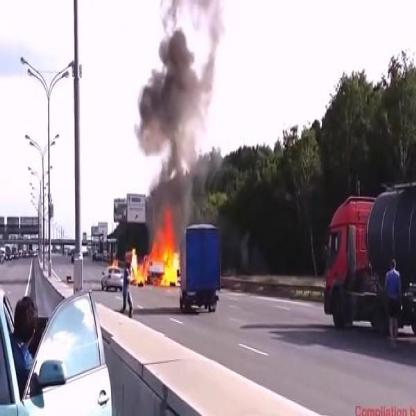fire: (130, 206, 183, 286)
